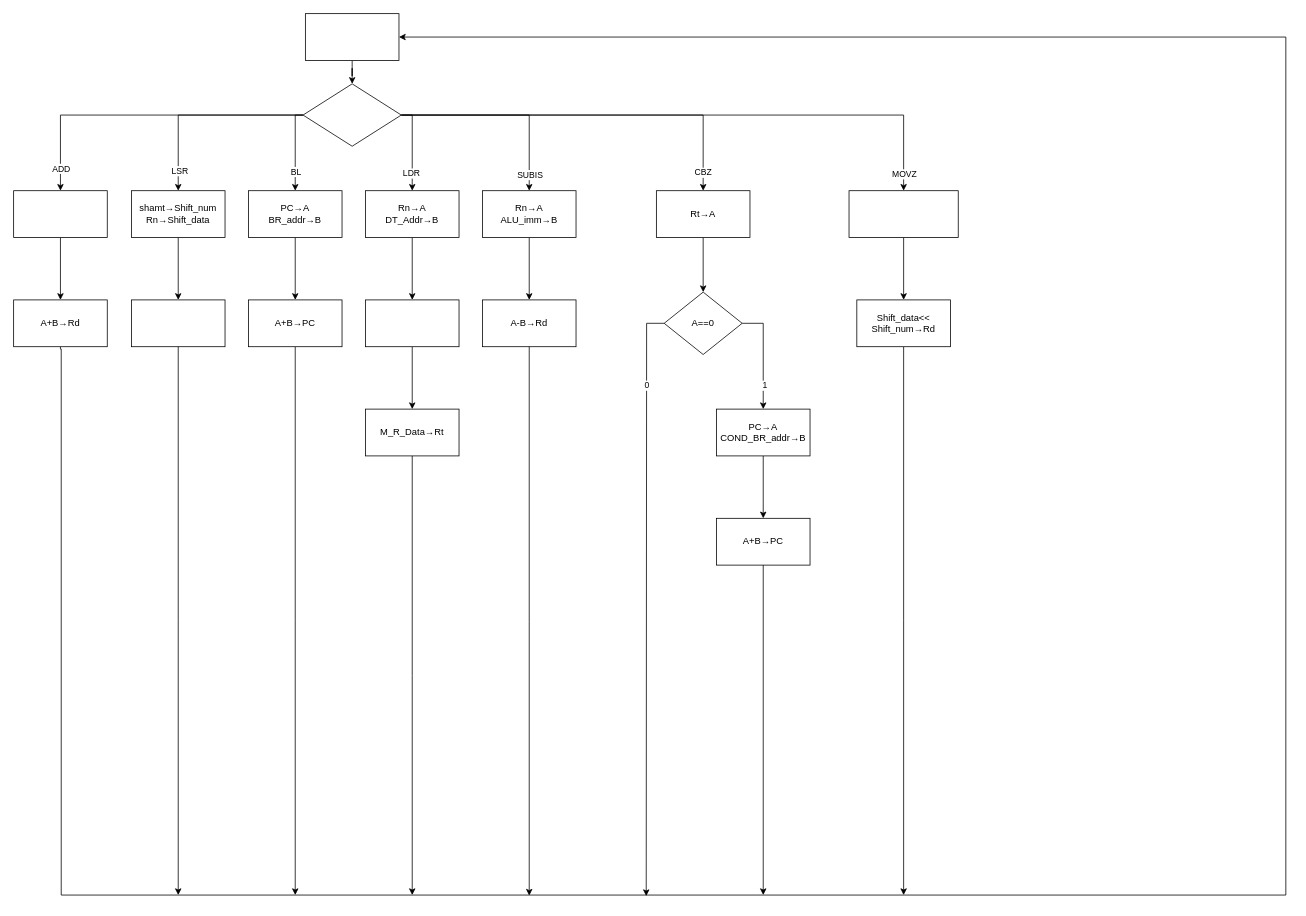
Image size: 1306x916. Some labels were removed from this diagram. Each missing label, with the box of its shape:
A+B→M_Addr: (365, 299, 459, 347)
Inst_addr→IR: (302, 83, 401, 146)
MOV_imm→Shift_data I[22:21]*16→Shift_num: (848, 190, 958, 238)
PC→AR PC+4: (305, 13, 399, 60)
Rn→B Rm→A: (13, 190, 107, 238)
Shift_data>> Shift_num→Rd: (131, 299, 225, 347)
